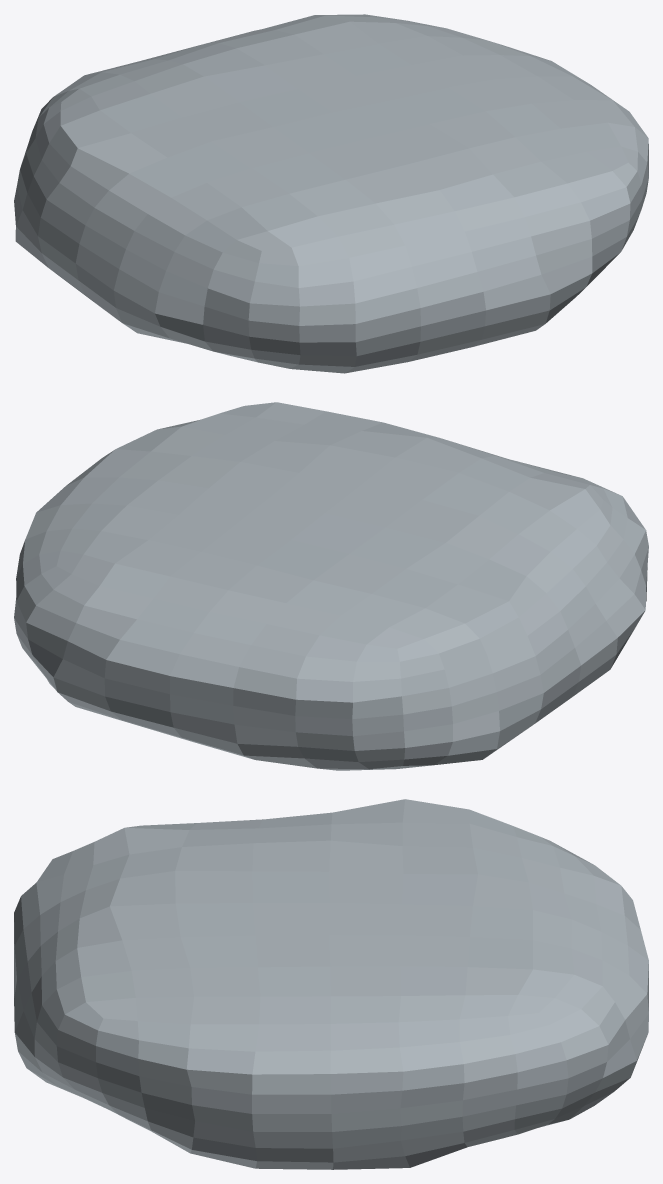
The model's file is Stone_air.obj.
The picture shows the model from 3 angles, top to bottom: view 1: azimuth 30°, elevation 25°; view 2: azimuth 150°, elevation 25°; view 3: azimuth 270°, elevation 25°; orthographic projection. The views are drawn at different scales.
Parts seen in each view (by area): view 1: Куб.018; view 2: Куб.018; view 3: Куб.018.
Boxes of the visible parts, x1=… form: Куб.018: x1=14, y1=14, x2=648, y2=373; Куб.018: x1=14, y1=402, x2=648, y2=770; Куб.018: x1=14, y1=799, x2=648, y2=1169.
Bounding box in the file's own units: 5.17 × 1.38 × 5.18.
